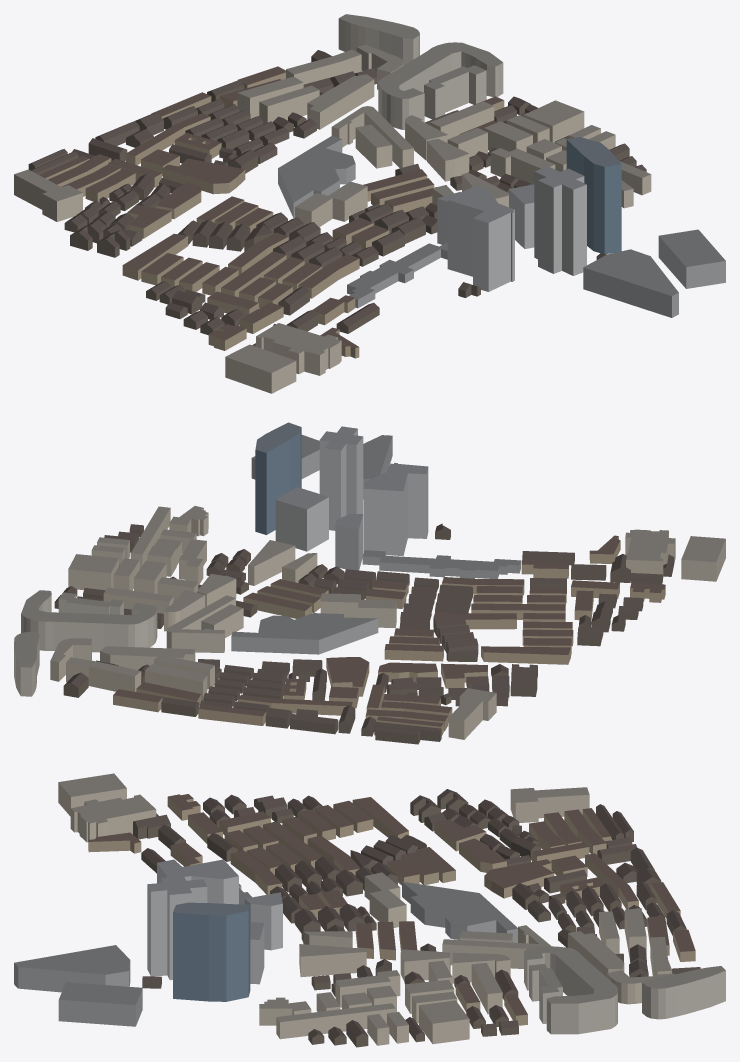
Rendered from tile_2_6.glb.
The picture shows the model from 3 angles, top to bottom: view 1: azimuth 30°, elevation 25°; view 2: azimuth 150°, elevation 25°; view 3: azimuth 270°, elevation 25°; orthographic projection. The views are drawn at different scales.
Visible parts, largest first — view 1: HP-w734452853, HP-w859447908, HP-w372180397, HP-w859447906, HP-w859447905, HP-w859447863, HP-w372180476, HP-w734452863, HP-w372180395, HP-w734452866, HP-w372180386, HP-w494305534 (+44 smaller); view 2: HP-w734452853, HP-w372180397, HP-w859447863, HP-w859447906, HP-w859447908, HP-w859447907, HP-w494305534, HP-w494302962, HP-w734452863, HP-w734452866, HP-w693448177, HP-w859424188 (+52 smaller); view 3: HP-w859447906, HP-w372180397, HP-w859447905, HP-w859447863, HP-w372180395, HP-w859447908, HP-w372180476, HP-w734452863, HP-w859447881, HP-w859424145, HP-w734452853, HP-w859447899 (+75 smaller).
Boxes of the visible parts, x1,y1,x2,y2 form: HP-w734452853: (447, 186, 514, 291); HP-w859447908: (534, 166, 586, 275); HP-w372180397: (378, 42, 503, 129); HP-w859447906: (566, 137, 621, 253); HP-w859447905: (583, 249, 678, 317); HP-w859447863: (278, 136, 355, 218); HP-w372180476: (658, 229, 725, 288); HP-w734452863: (256, 323, 341, 375); HP-w372180395: (338, 14, 419, 65); HP-w734452866: (225, 344, 296, 393); HP-w372180386: (424, 65, 486, 119); HP-w494305534: (347, 242, 447, 308); HP-w734452853: (363, 462, 428, 556); HP-w372180397: (21, 590, 157, 652); HP-w859447863: (231, 613, 378, 654); HP-w859447906: (255, 422, 301, 534); HP-w859447908: (319, 426, 363, 530); HP-w859447907: (275, 487, 328, 551); HP-w494305534: (362, 550, 520, 578); HP-w494302962: (166, 595, 235, 652); HP-w734452863: (625, 529, 675, 578); HP-w734452866: (681, 536, 725, 581); HP-w693448177: (320, 593, 396, 627); HP-w859424188: (66, 657, 141, 691); HP-w859447906: (173, 902, 250, 1001); HP-w372180397: (524, 946, 617, 1034); HP-w859447905: (14, 945, 130, 992); HP-w859447863: (402, 881, 517, 942); HP-w372180395: (642, 966, 725, 1019); HP-w859447908: (147, 876, 207, 979); HP-w372180476: (58, 982, 142, 1026); HP-w734452863: (70, 794, 156, 842); HP-w859447881: (276, 1003, 395, 1039); HP-w859424145: (510, 787, 589, 822); HP-w734452853: (157, 859, 238, 904); HP-w859447899: (299, 944, 366, 976).
Bounding box in the file's own units: 479 × 76 × 568.
